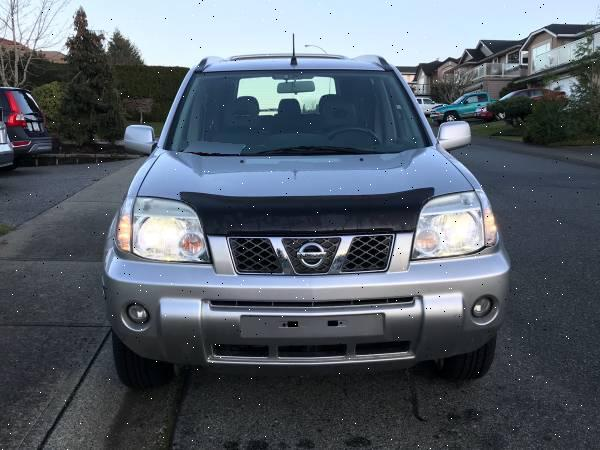Front_Bumper: (106, 245, 510, 367)
Front_Windshield: (158, 69, 433, 156)
Grille: (203, 230, 416, 275)
Hood: (126, 146, 479, 236)
Left_Headlight: (411, 191, 497, 259)
Left_Mirror: (434, 120, 472, 148)
Right_Headlight: (108, 194, 210, 265)
Right_Mirror: (124, 123, 156, 157)
Roof: (189, 52, 393, 71)
